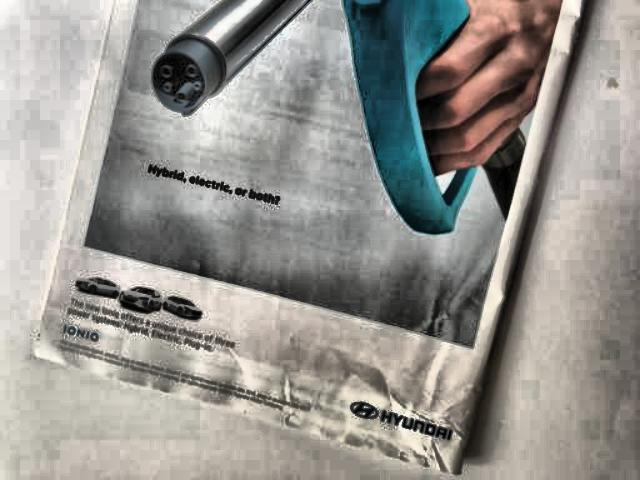Paper: (58, 0, 582, 480)
